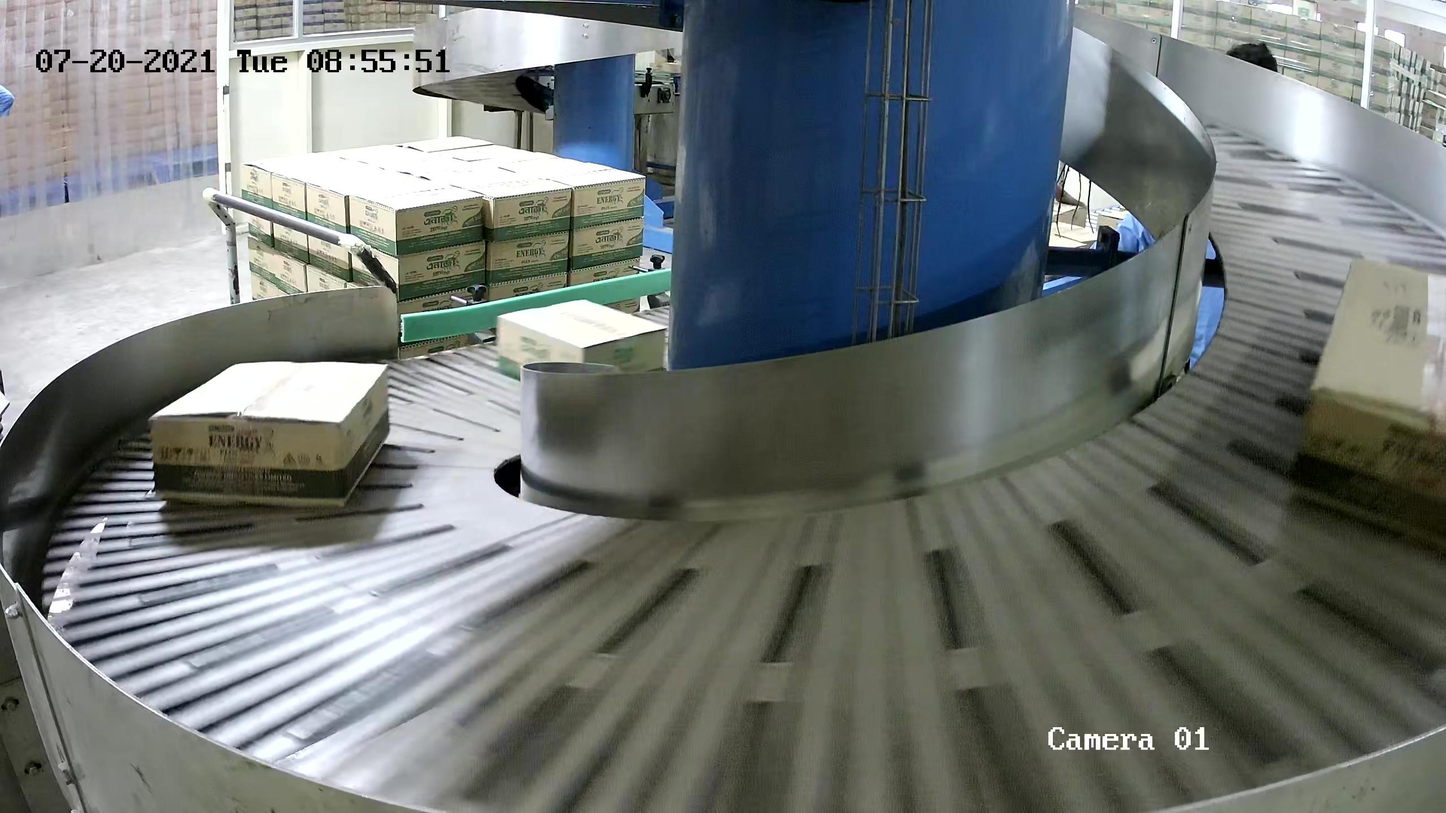Box: (1281, 258, 1446, 578), (147, 360, 394, 512), (495, 297, 669, 406)
